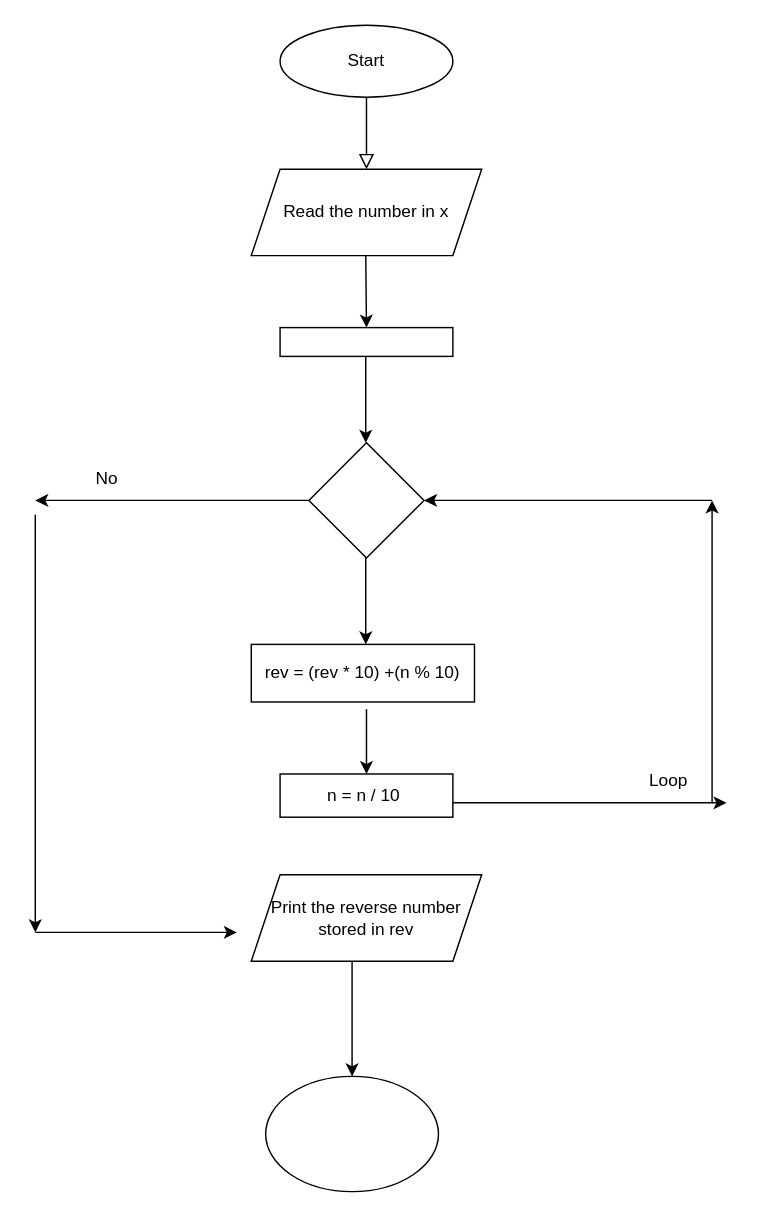
The diagram is 763 pixels wide and 1217 high, and some of its shapes have lost their labels. The shapes that lost their labels are listed below. From the top down, each one's centre as x and y in pixels, then its label:
point (366, 341): set rev = 0
point (365, 499): if n>0
point (351, 1133): End
